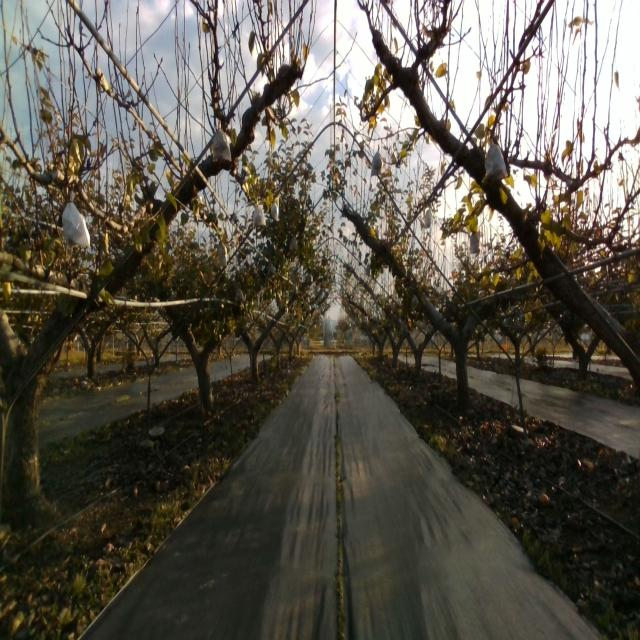pearbags: (61, 193, 91, 250), (481, 138, 508, 184), (212, 120, 232, 162), (253, 200, 267, 229), (370, 144, 382, 177), (214, 242, 228, 267), (469, 228, 480, 254), (270, 199, 281, 222), (424, 206, 434, 228)
